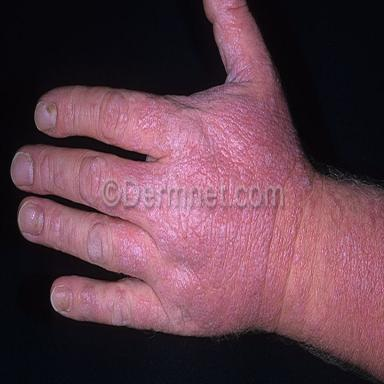lichen: (106, 2, 317, 201), (93, 201, 320, 330), (322, 198, 384, 329), (79, 282, 128, 321)
